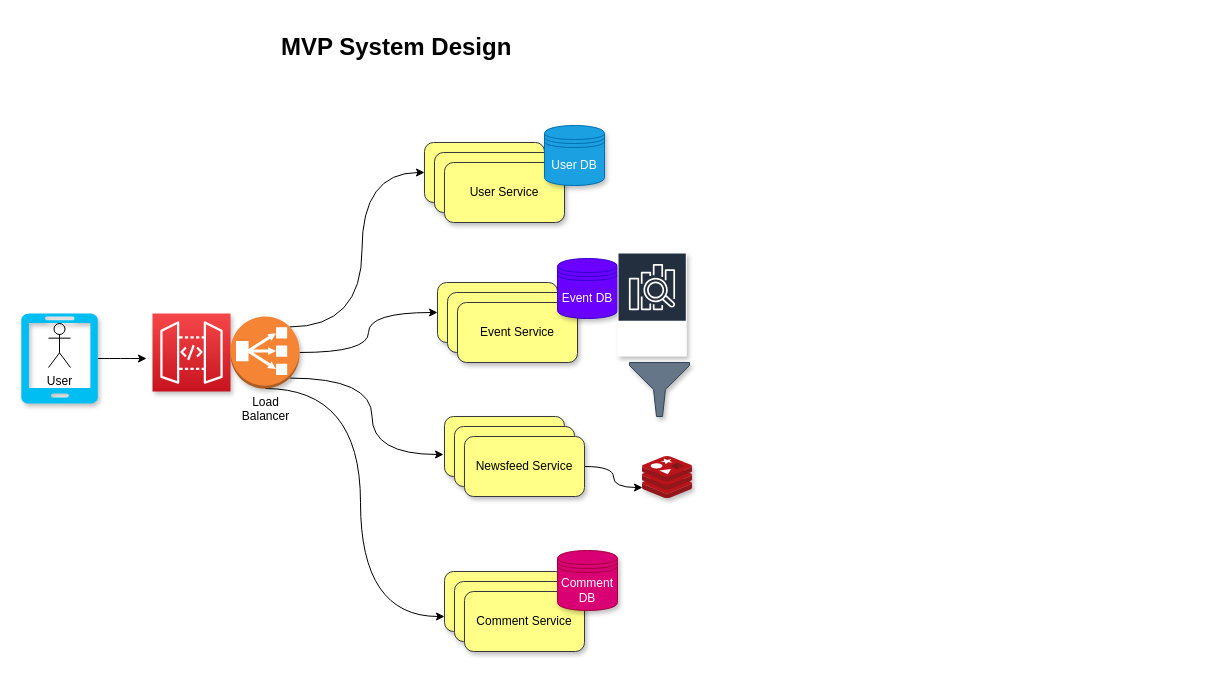
The diagram is 1229 pixels wide and 676 high, and some of its shapes have lost their labels. The centre of each missing label's shape, as x and y in pixels:
API Gateway: [192,353]
Candidate generation: [660,391]
Elastic search index: [652,306]
Newsfeed Cache: [668,478]
